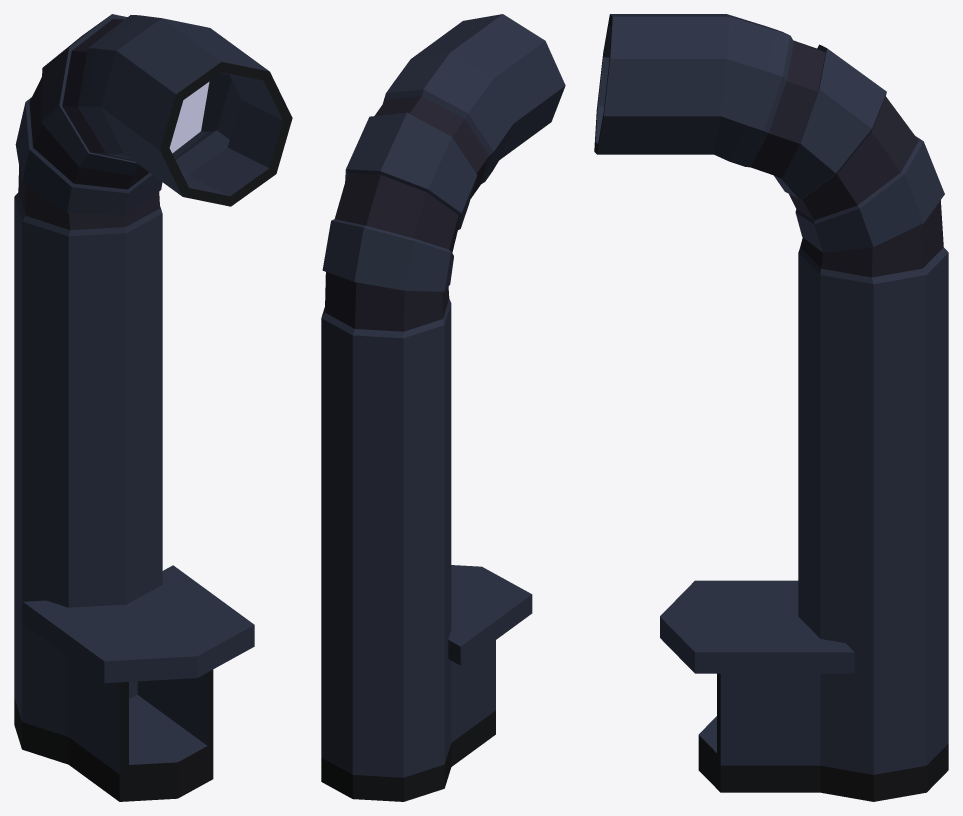
File: DUCTO DE AIRE.fbx
3 views of the same model, side by side, from view 1: azimuth 30°, elevation 25°; view 2: azimuth 150°, elevation 25°; view 3: azimuth 270°, elevation 25° (orthographic). The views are drawn at different scales.
Visible parts, largest first — view 1: Circle; view 2: Circle; view 3: Circle.
Boxes of the visible parts, x1,y1,x2,y2 form: Circle: [14, 14, 292, 801]; Circle: [321, 14, 565, 801]; Circle: [594, 14, 948, 801].
Bounding box in the file's own units: 226 × 1106 × 472.
